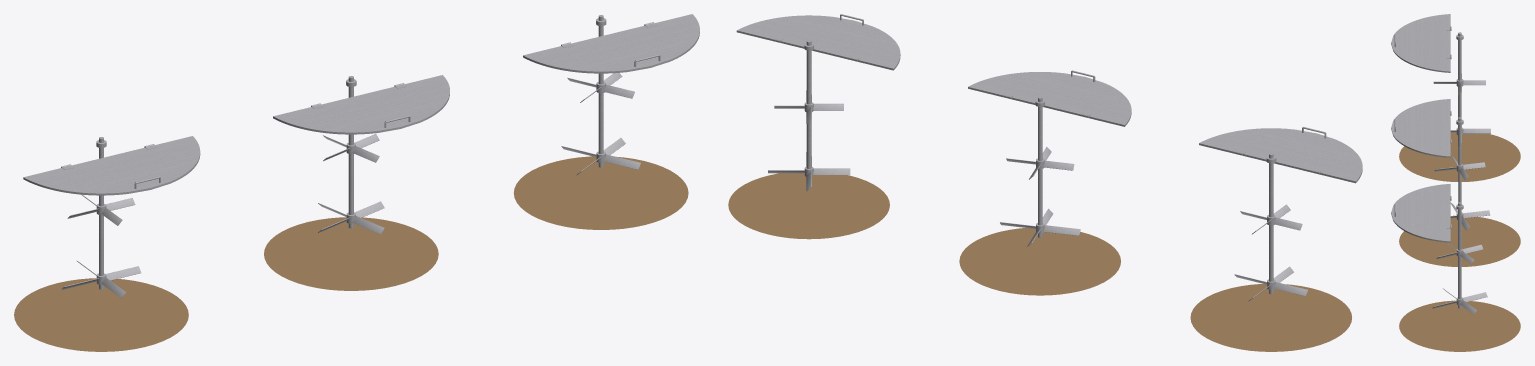
File: empresa_brasil_tanques.glb
The picture shows the model from 3 angles, left to right: view 1: azimuth 30°, elevation 25°; view 2: azimuth 150°, elevation 25°; view 3: azimuth 270°, elevation 25°; orthographic projection. The views are drawn at different scales.
Parts seen in each view (by area): view 1: EB_Tanque_3_Liquido, EB_Tanque_1_Liquido, EB_Tanque_2_Liquido, EB_Tanque_1_Tampa, EB_Tanque_2_Tampa, EB_Tanque_3_Tampa, EB_Tanque_2_Agitador, EB_Tanque_3_Agitador, EB_Tanque_1_Agitador; view 2: EB_Tanque_3_Liquido, EB_Tanque_2_Liquido, EB_Tanque_1_Liquido, EB_Tanque_3_Tampa, EB_Tanque_1_Tampa, EB_Tanque_2_Tampa, EB_Tanque_2_Agitador, EB_Tanque_1_Agitador, EB_Tanque_3_Agitador; view 3: EB_Tanque_3_Liquido, EB_Tanque_1_Liquido, EB_Tanque_2_Liquido, EB_Tanque_3_Tampa, EB_Tanque_1_Tampa, EB_Tanque_2_Tampa, EB_Tanque_3_Agitador, EB_Tanque_2_Agitador, EB_Tanque_1_Agitador.
Boxes of the visible parts, x1=… form: EB_Tanque_3_Liquido: x1=513, y1=156, x2=688, y2=229; EB_Tanque_1_Liquido: x1=14, y1=278, x2=188, y2=351; EB_Tanque_2_Liquido: x1=264, y1=217, x2=438, y2=290; EB_Tanque_1_Tampa: x1=23, y1=136, x2=200, y2=195; EB_Tanque_2_Tampa: x1=273, y1=75, x2=449, y2=134; EB_Tanque_3_Tampa: x1=523, y1=14, x2=699, y2=73; EB_Tanque_2_Agitador: x1=318, y1=76, x2=384, y2=234; EB_Tanque_3_Agitador: x1=561, y1=15, x2=640, y2=174; EB_Tanque_1_Agitador: x1=61, y1=137, x2=141, y2=298; EB_Tanque_3_Liquido: x1=728, y1=173, x2=889, y2=239; EB_Tanque_2_Liquido: x1=959, y1=228, x2=1120, y2=295; EB_Tanque_1_Liquido: x1=1190, y1=284, x2=1351, y2=351; EB_Tanque_3_Tampa: x1=736, y1=14, x2=900, y2=70; EB_Tanque_1_Tampa: x1=1199, y1=127, x2=1362, y2=183; EB_Tanque_2_Tampa: x1=968, y1=70, x2=1131, y2=126; EB_Tanque_2_Agitador: x1=1000, y1=96, x2=1080, y2=246; EB_Tanque_1_Agitador: x1=1234, y1=153, x2=1308, y2=301; EB_Tanque_3_Agitador: x1=768, y1=40, x2=850, y2=191; EB_Tanque_3_Liquido: x1=1399, y1=300, x2=1520, y2=351; EB_Tanque_1_Liquido: x1=1399, y1=132, x2=1520, y2=181; EB_Tanque_2_Liquido: x1=1399, y1=215, x2=1520, y2=266; EB_Tanque_3_Tampa: x1=1391, y1=184, x2=1451, y2=242; EB_Tanque_1_Tampa: x1=1391, y1=14, x2=1451, y2=72; EB_Tanque_2_Tampa: x1=1391, y1=99, x2=1451, y2=157; EB_Tanque_3_Agitador: x1=1432, y1=202, x2=1487, y2=314; EB_Tanque_2_Agitador: x1=1434, y1=117, x2=1490, y2=230; EB_Tanque_1_Agitador: x1=1433, y1=32, x2=1490, y2=145.
Bounding box in the file's own units: 8.84 × 2.24 × 2.13.
Materials: 2 (1 with a texture image).
